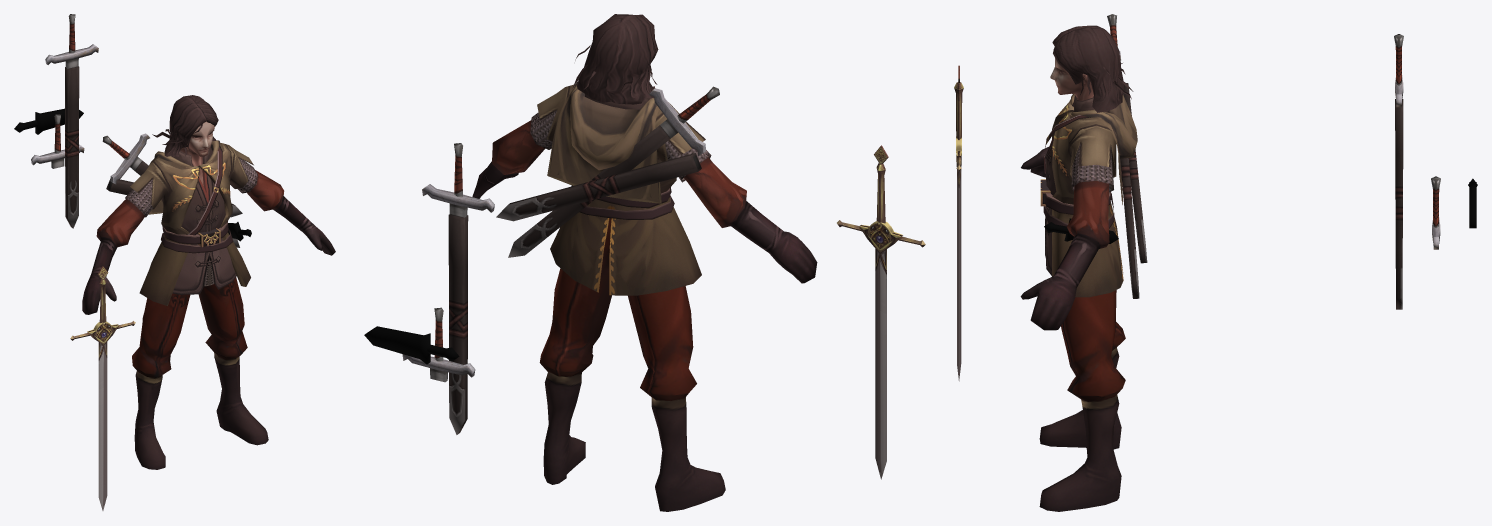
The model's file is rildin-skin2.glb.
3 renders of one model, left to right at view 1: azimuth 30°, elevation 25°; view 2: azimuth 150°, elevation 25°; view 3: azimuth 270°, elevation 25°, orthographic. The views are drawn at different scales.
Parts seen in each view (by area): view 1: Object060.001, Object067, Object063; view 2: Object060.001, Object067, Object063; view 3: Object060.001, Object067, Object063.
Part boxes in pixels (x1,y1,x2,y2): Object060.001: (70,95,335,510); Object067: (45,14,98,228); Object063: (14,108,84,168); Object060.001: (472,14,925,511); Object067: (422,143,494,434); Object063: (364,307,475,382); Object060.001: (954,14,1147,511); Object067: (1394,34,1403,309); Object063: (1431,176,1477,249).
Bounding box in the file's own units: 17.2 × 19.09 × 20.38.
1 material, 1 textured.
